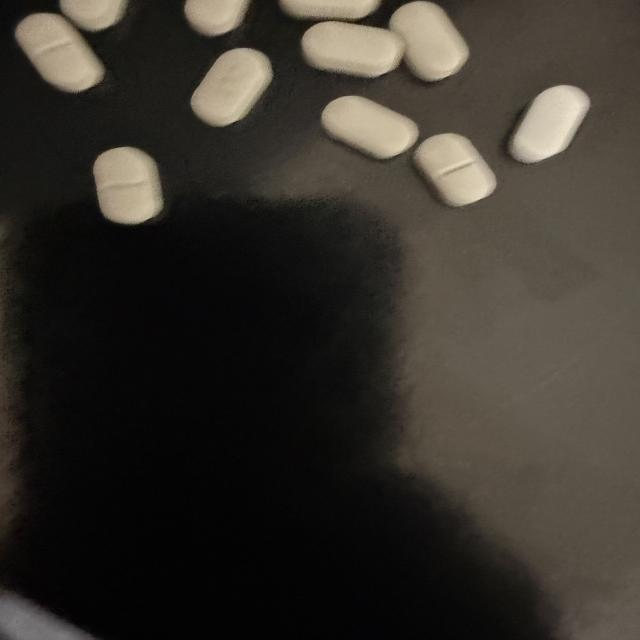pill: (15, 14, 105, 92), (191, 48, 273, 126), (390, 2, 469, 81), (509, 86, 590, 163), (322, 96, 418, 159), (415, 134, 496, 206), (302, 22, 404, 77), (94, 147, 163, 224), (184, 0, 249, 36), (60, 0, 128, 31), (280, 0, 380, 20)
